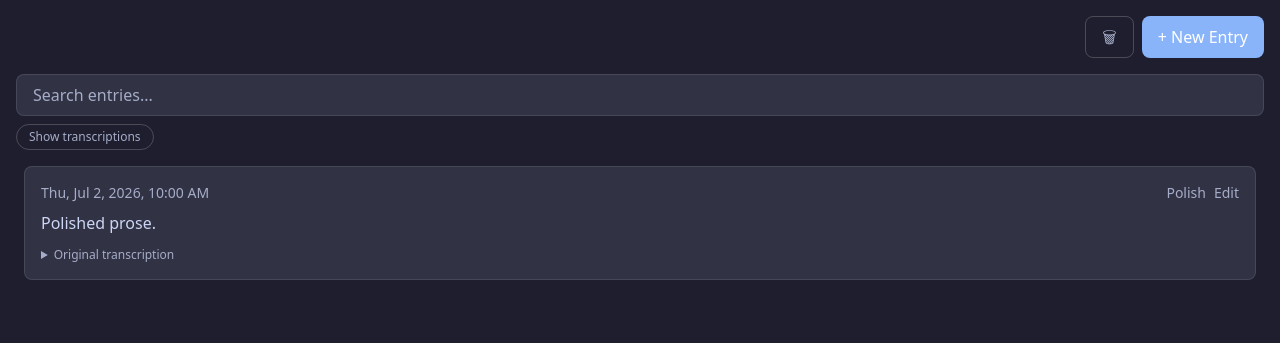
Scenario: Journal polish failures › shows why the polish failed and leaves the entry on screen
Click the button "Polish" at (1186, 193), box [1166,183,1206,203]
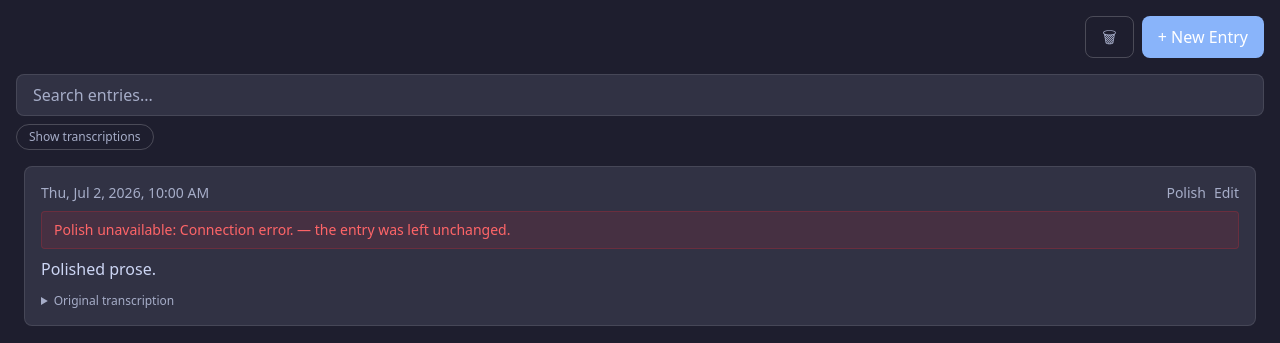
Expected: the text "Polished prose." is shown, [41,258,156,280]
Expected: the text "Polish unavailable: Connection error." is shown, [54,220,294,239]
